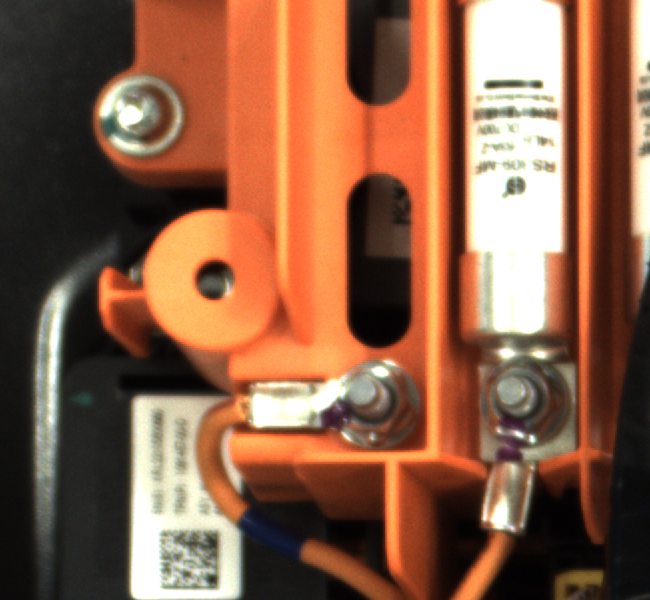screw_m: (86, 69, 193, 160)
screw_s: (478, 350, 596, 465), (318, 347, 418, 445)
